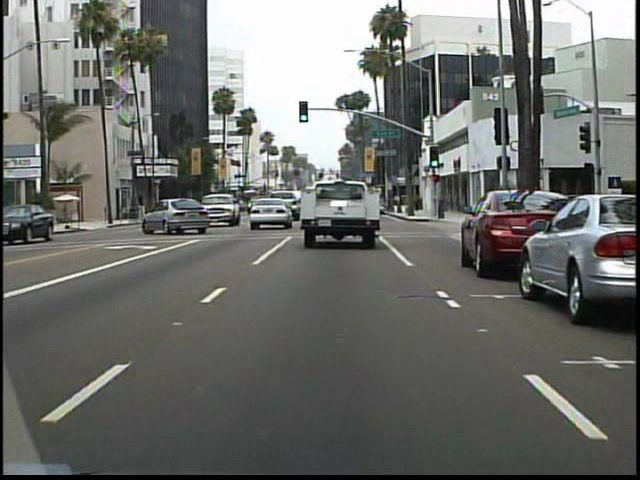person: (439, 187, 448, 220)
